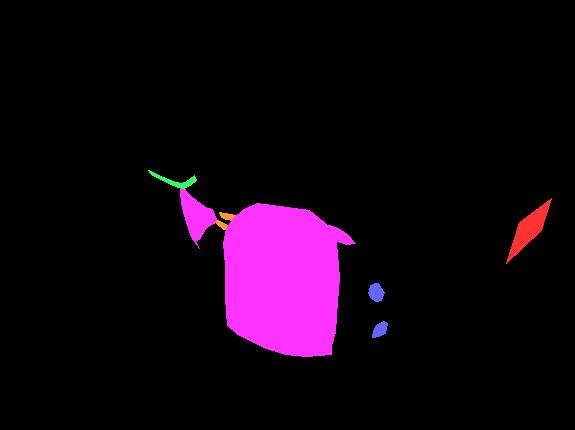Broken part: (148, 170, 196, 188)
Dent: (223, 203, 339, 356), (180, 184, 216, 248), (297, 260, 319, 295), (322, 223, 355, 244), (286, 226, 315, 235)
Missing part: (506, 198, 551, 263)
Paint chip: (219, 212, 238, 221), (214, 219, 231, 229)
Scratch: (368, 283, 384, 301), (372, 321, 387, 337), (321, 316, 335, 322)
